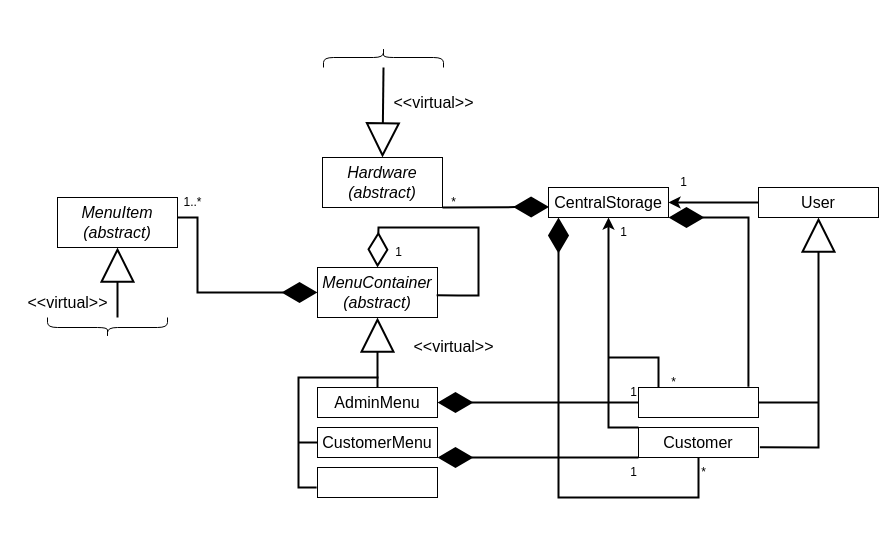
Image size: 896x547. Some labels were removed from this diagram. Here are the shapes that lost their labels. From the top down, the centre of each, then its label:
At (383,57): "hardware types".
At (107,327): "task classes".
At (698,402): "Admin".
At (377,482): "AccountMenu".
